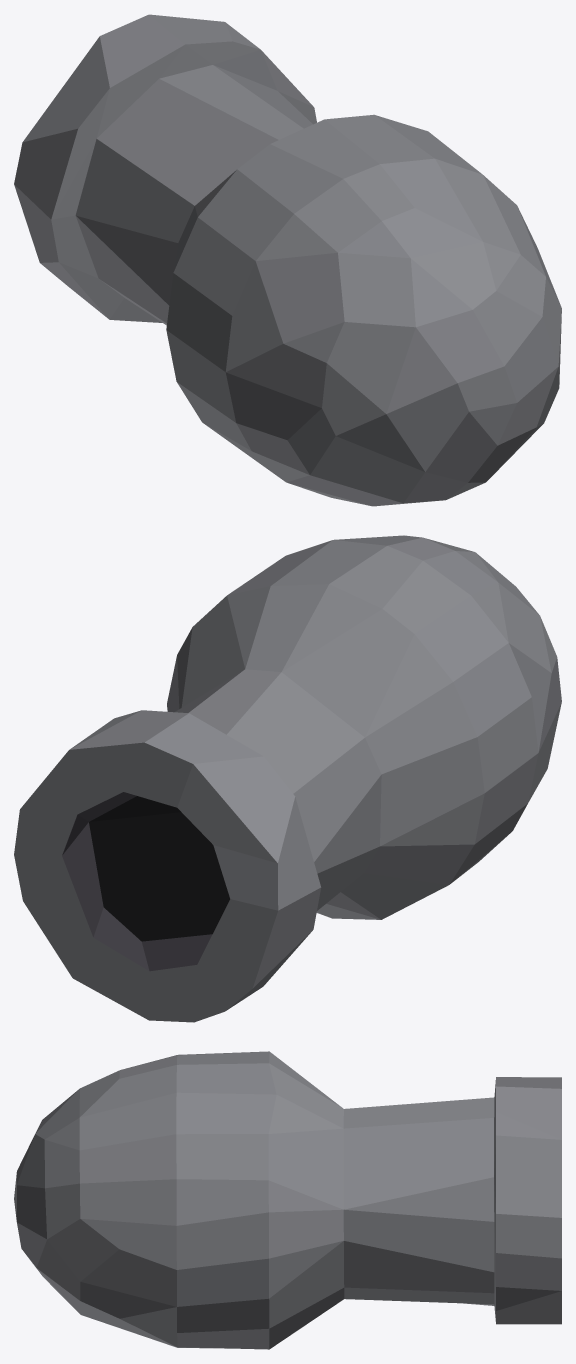
File: Cañon (Modelo).fbx
3 renders of one model, top to bottom at view 1: azimuth 30°, elevation 25°; view 2: azimuth 150°, elevation 25°; view 3: azimuth 270°, elevation 25°, orthographic. The views are drawn at different scales.
Parts seen in each view (by area): view 1: Cañon; view 2: Cañon; view 3: Cañon.
Part boxes in pixels (x1,y1,x2,y2): Cañon: (14,14,561,506); Cañon: (14,535,561,1022); Cañon: (14,1051,561,1349).
Bounding box in the file's own units: 0.2467 × 0.2467 × 0.45.
